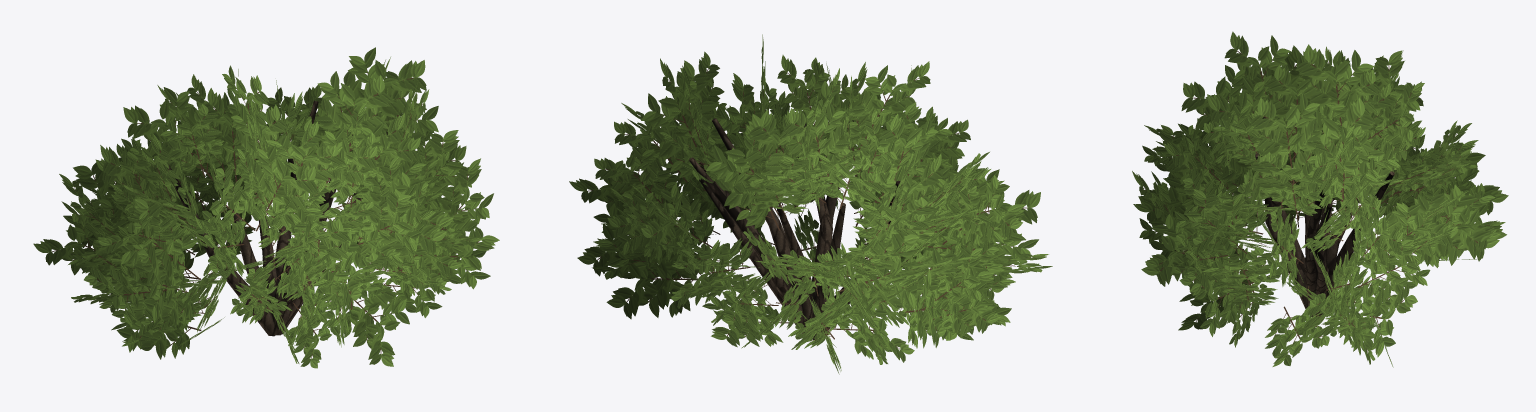
File: costa_arbusto_a.glb
3 views of the same model, side by side, from view 1: azimuth 30°, elevation 25°; view 2: azimuth 150°, elevation 25°; view 3: azimuth 270°, elevation 25° (orthographic). The views are drawn at different scales.
Visible parts, largest first — view 1: costa_arbusto_a_folhas, costa_arbusto_a_tronco; view 2: costa_arbusto_a_folhas, costa_arbusto_a_tronco; view 3: costa_arbusto_a_folhas, costa_arbusto_a_tronco.
Part boxes in pixels (box(x1,y1,x2,y2)): costa_arbusto_a_folhas: box(33, 47, 499, 368); costa_arbusto_a_tronco: box(167, 100, 387, 336); costa_arbusto_a_folhas: box(569, 34, 1052, 374); costa_arbusto_a_tronco: box(689, 118, 900, 340); costa_arbusto_a_folhas: box(1132, 31, 1508, 367); costa_arbusto_a_tronco: box(1255, 94, 1394, 316).
Bounding box in the file's own units: 2.46 × 1.61 × 2.
2 materials, 2 textured.
